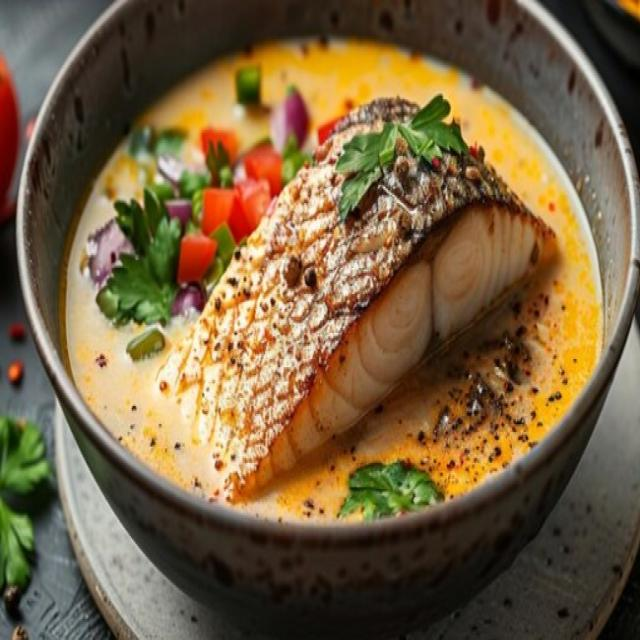FISH CURRY: (60, 39, 606, 523)
